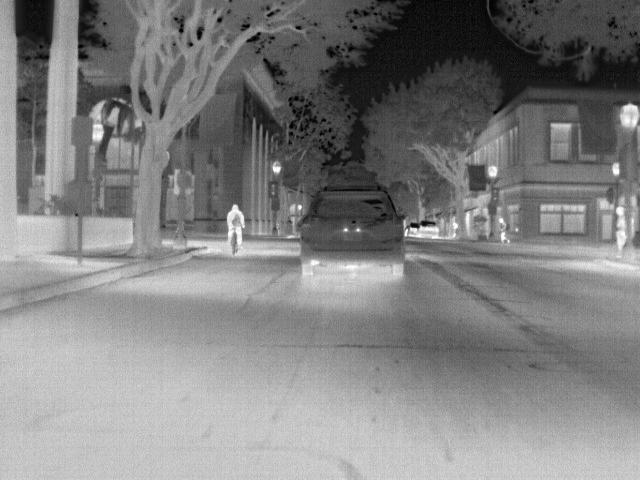car: (298, 182, 410, 276), (415, 219, 442, 239), (406, 222, 419, 236)
person: (225, 205, 248, 254), (615, 204, 628, 252), (497, 214, 512, 244)
